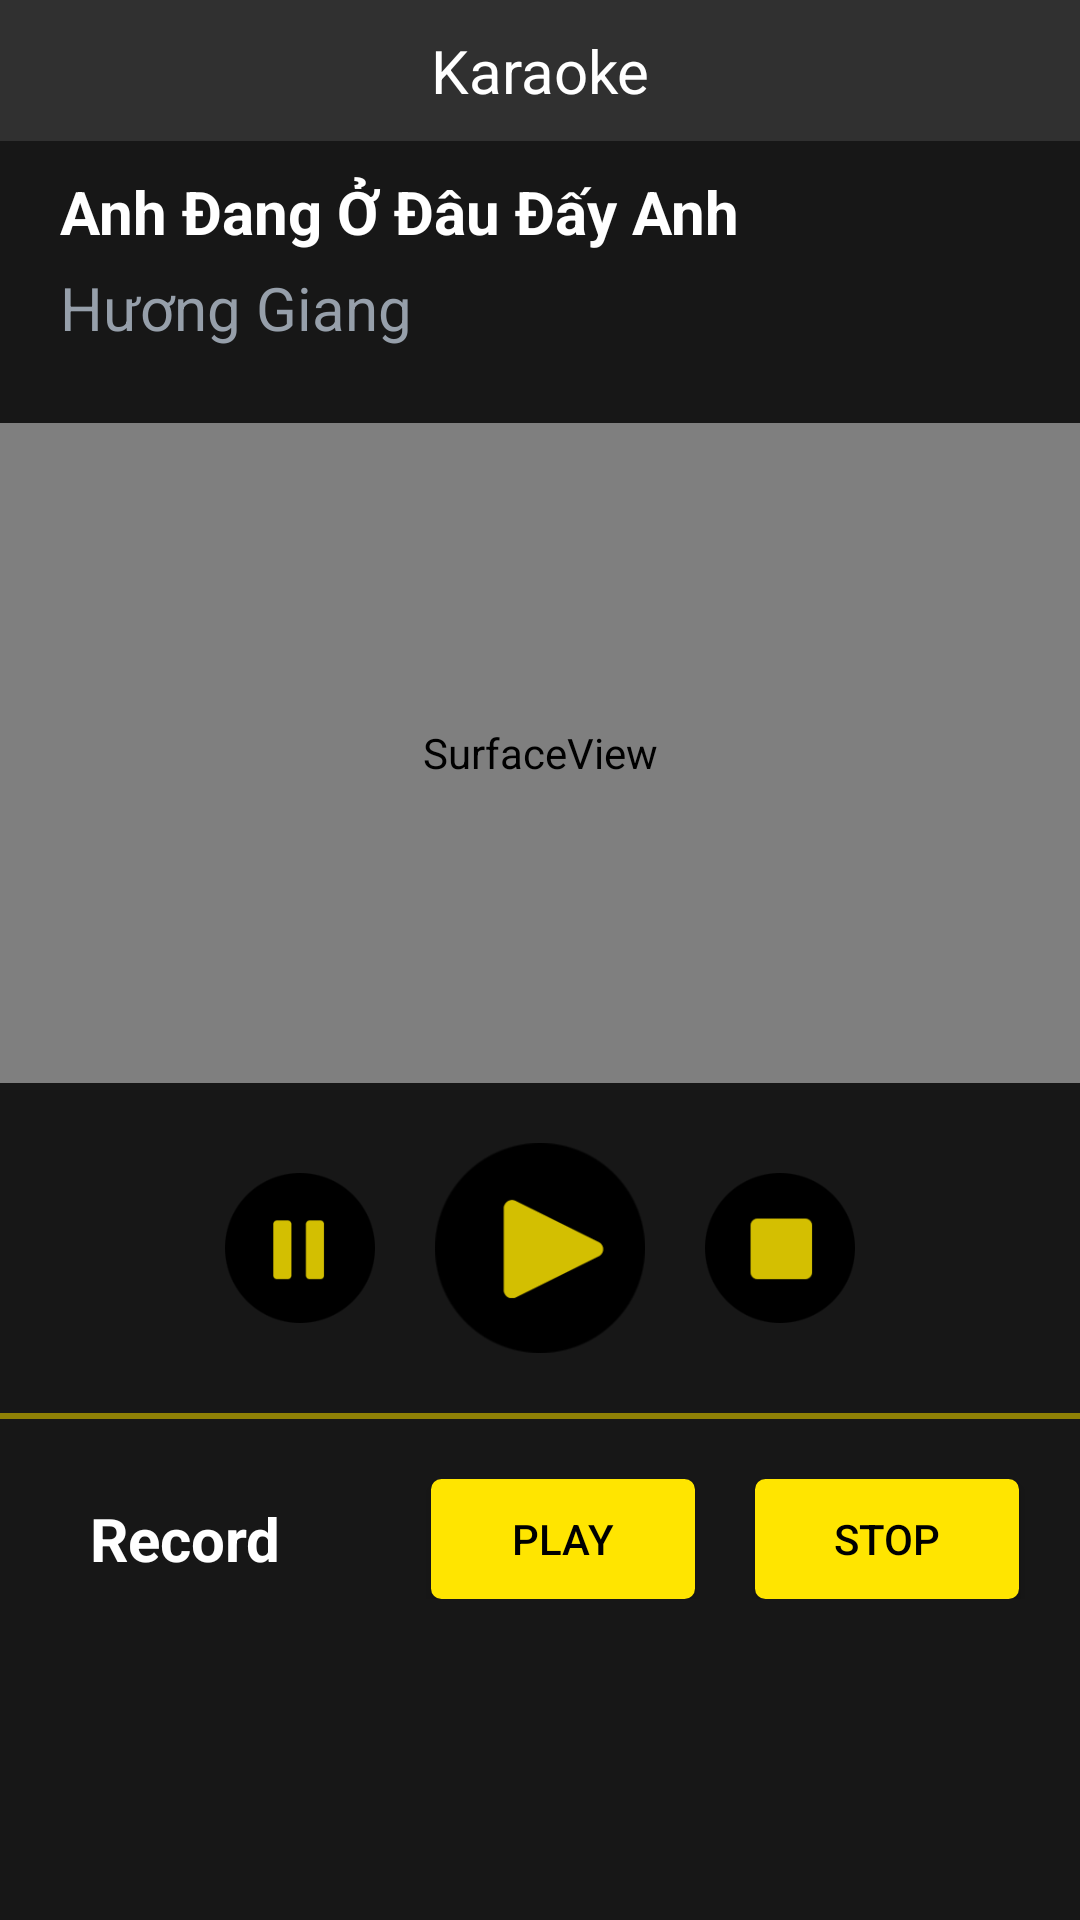

Named icons in this screenshot (1080 x 1920) and their bounding boxes, {"x1": x1, "y1": y1, "x2": x2, "y2": y2}:
pause: {"x1": 273, "y1": 1220, "x2": 324, "y2": 1279}
stop: {"x1": 750, "y1": 1218, "x2": 812, "y2": 1279}
